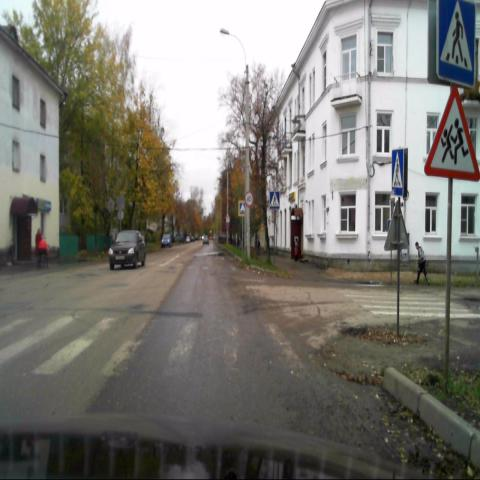5_19_1: (391, 146, 404, 194)
